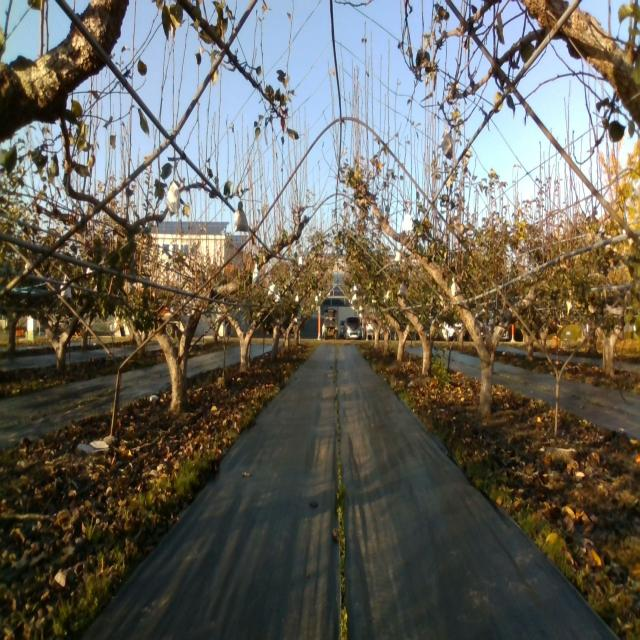pearbags: (167, 182, 180, 217), (233, 200, 247, 232), (441, 129, 453, 160)
